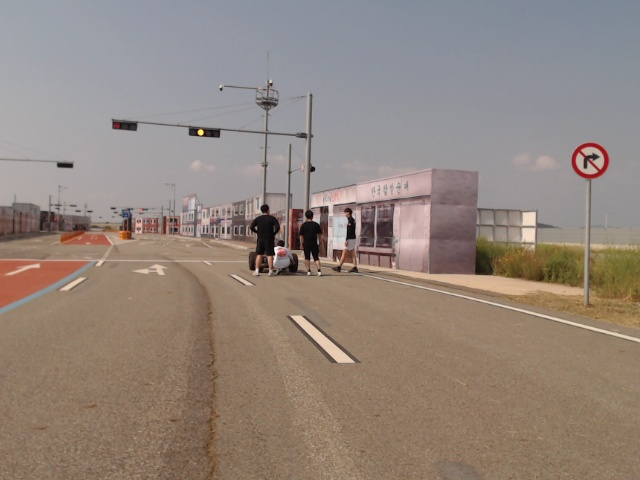orange_4: (187, 125, 221, 139)
